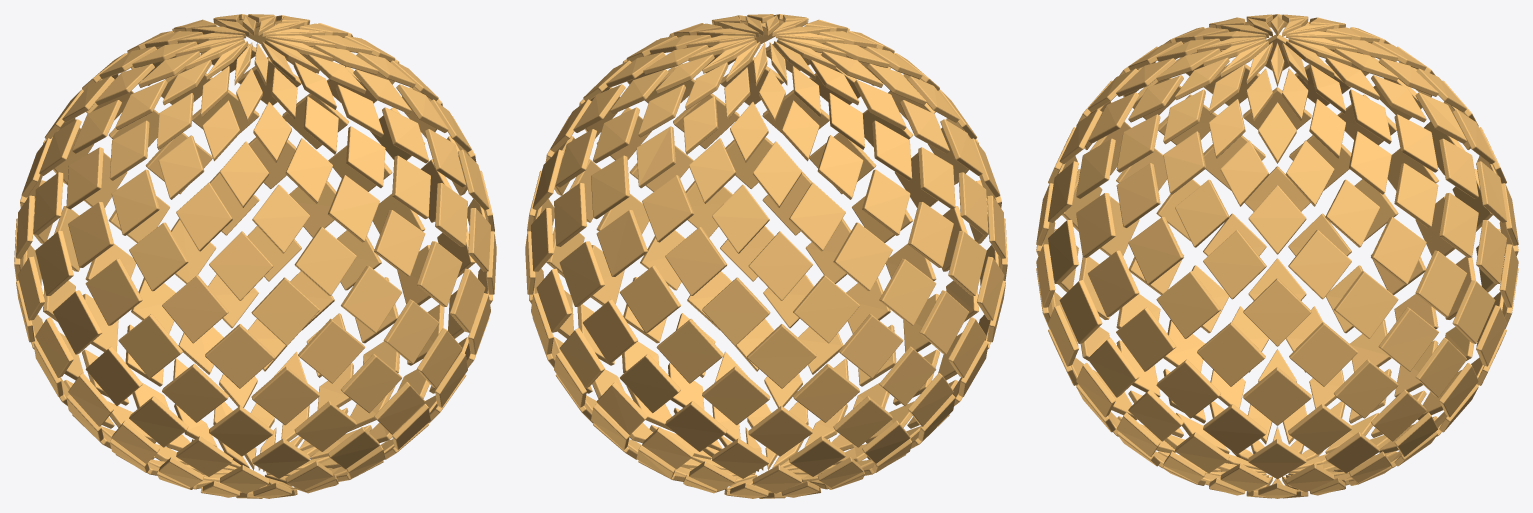
3 renders of one model, left to right at view 1: azimuth 30°, elevation 25°; view 2: azimuth 150°, elevation 25°; view 3: azimuth 270°, elevation 25°, orthographic.
Visible parts, largest first — view 1: Sphere; view 2: Sphere; view 3: Sphere.
Boxes of the visible parts, bbox=[...] form: Sphere: bbox=[14, 14, 496, 498]; Sphere: bbox=[525, 14, 1007, 498]; Sphere: bbox=[1036, 14, 1518, 498].
Size of the model in its own units: 200 by 201 by 200.
